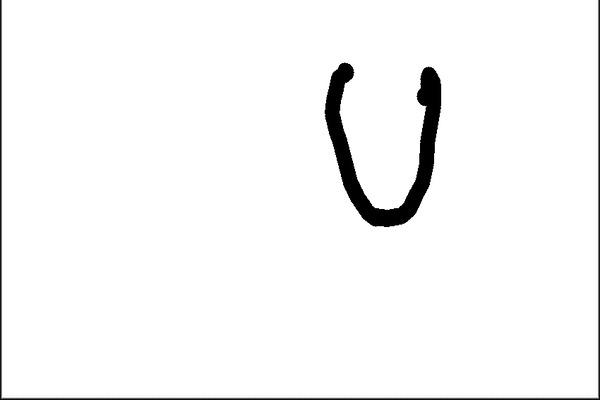U: (315, 52, 453, 238)
